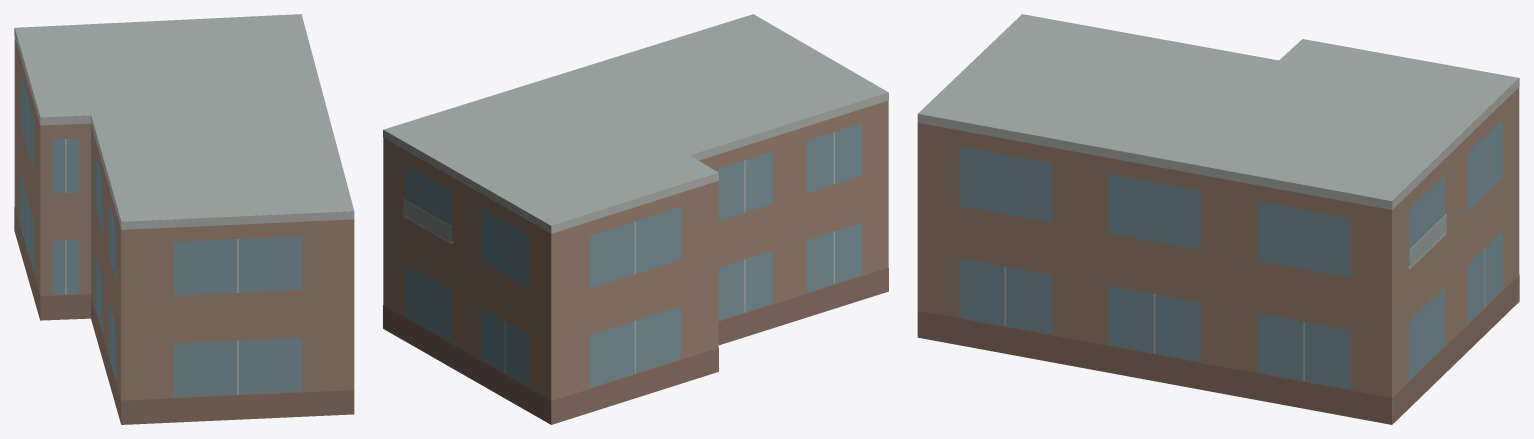
The model's file is survey-upis-32596220.glb.
3 views of the same model, side by side, from view 1: azimuth 30°, elevation 25°; view 2: azimuth 150°, elevation 25°; view 3: azimuth 270°, elevation 25° (orthographic). The views are drawn at different scales.
Visible parts, largest first — view 1: survey-upis-32596220.tmp; view 2: survey-upis-32596220.tmp; view 3: survey-upis-32596220.tmp.
Boxes of the visible parts, box(x1,y1,x2,y2) form: survey-upis-32596220.tmp: box(14, 14, 354, 424); survey-upis-32596220.tmp: box(383, 14, 888, 424); survey-upis-32596220.tmp: box(917, 14, 1519, 424).
Size of the model in its own units: 10.95 by 6.1 by 14.88.
